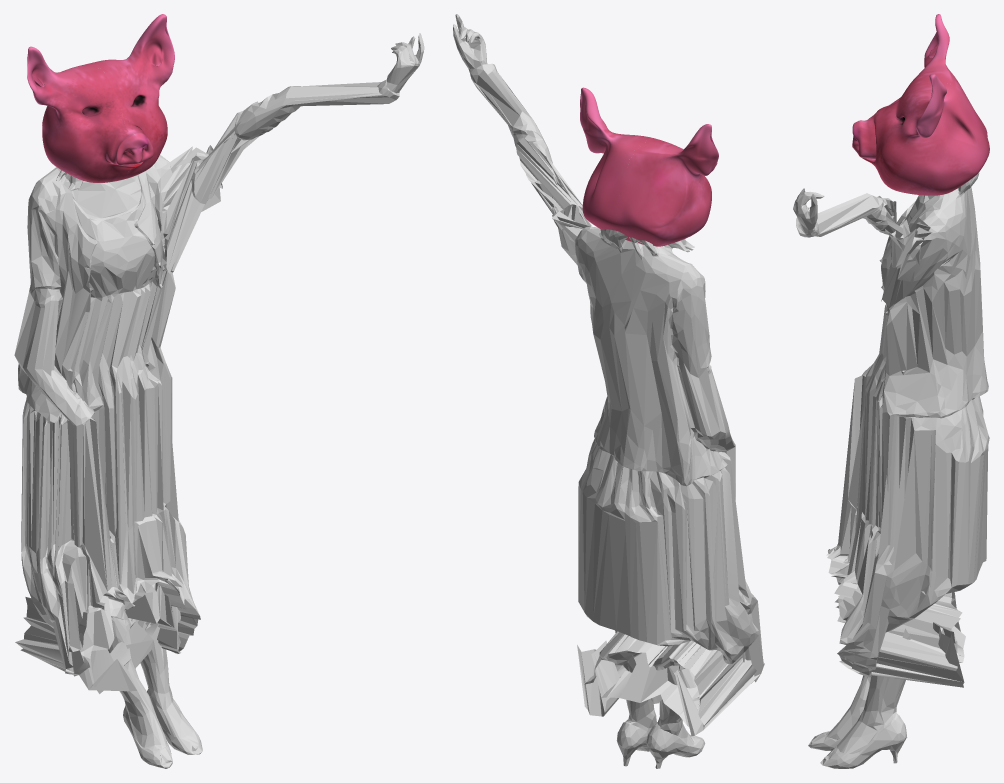
The model's file is monster_3.fbx.
3 views of the same model, side by side, from view 1: azimuth 30°, elevation 25°; view 2: azimuth 150°, elevation 25°; view 3: azimuth 270°, elevation 25° (orthographic). The views are drawn at different scales.
Parts seen in each view (by area): view 1: 091_W_Aya_100K_01.002, pig head; view 2: 091_W_Aya_100K_01.002, pig head; view 3: 091_W_Aya_100K_01.002, pig head.
Boxes of the visible parts, <box> form: 091_W_Aya_100K_01.002: <box>14,33,424,768</box>; pig head: <box>27,14,174,182</box>; 091_W_Aya_100K_01.002: <box>453,14,764,768</box>; pig head: <box>580,87,718,246</box>; 091_W_Aya_100K_01.002: <box>793,172,989,768</box>; pig head: <box>852,14,989,195</box>.
Size of the model in its own units: 164 by 322 by 82.1.
